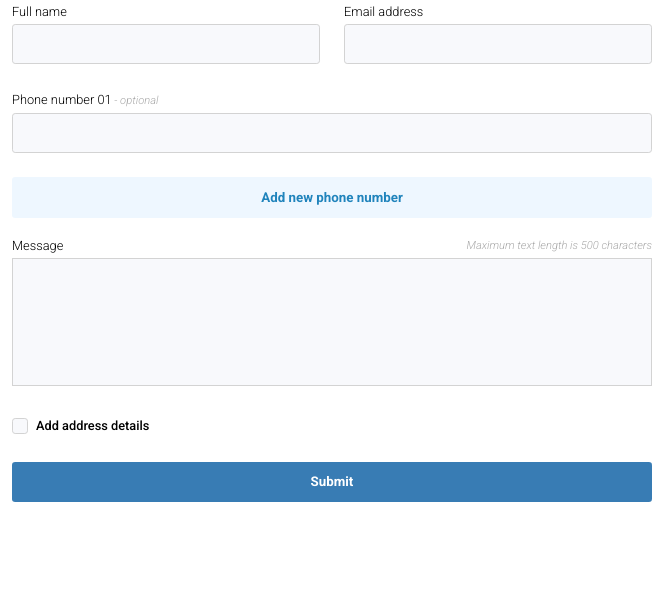
it: Contact Form › allows only one extra number to be added
expect the field labelled "Phone number 01 - optional" is shown: met, box [12,113,652,153]
Step 1. Click the button "Add new phone number" → (332, 197), box [12,177,652,218]
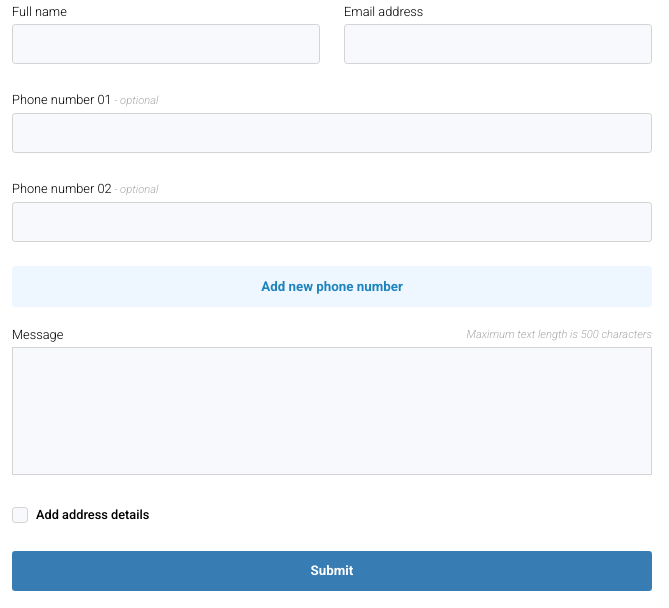
expect the button "Add new phone number" is disabled: met, box [12,266,652,307]
